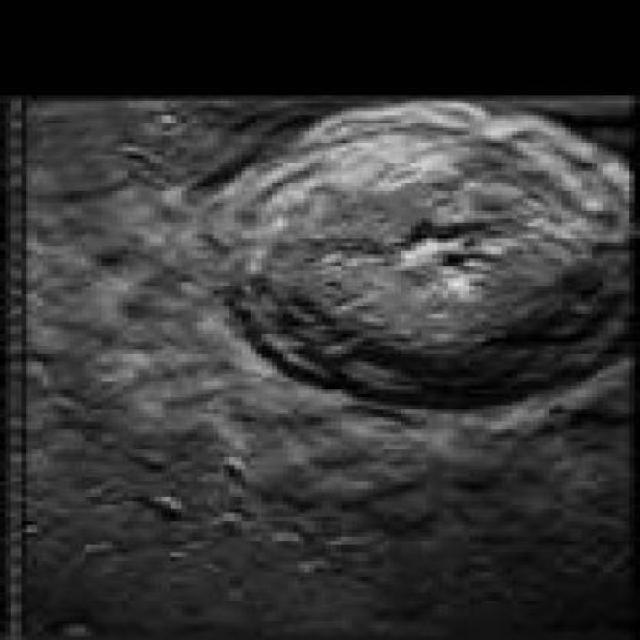crater: (188, 100, 640, 417)
